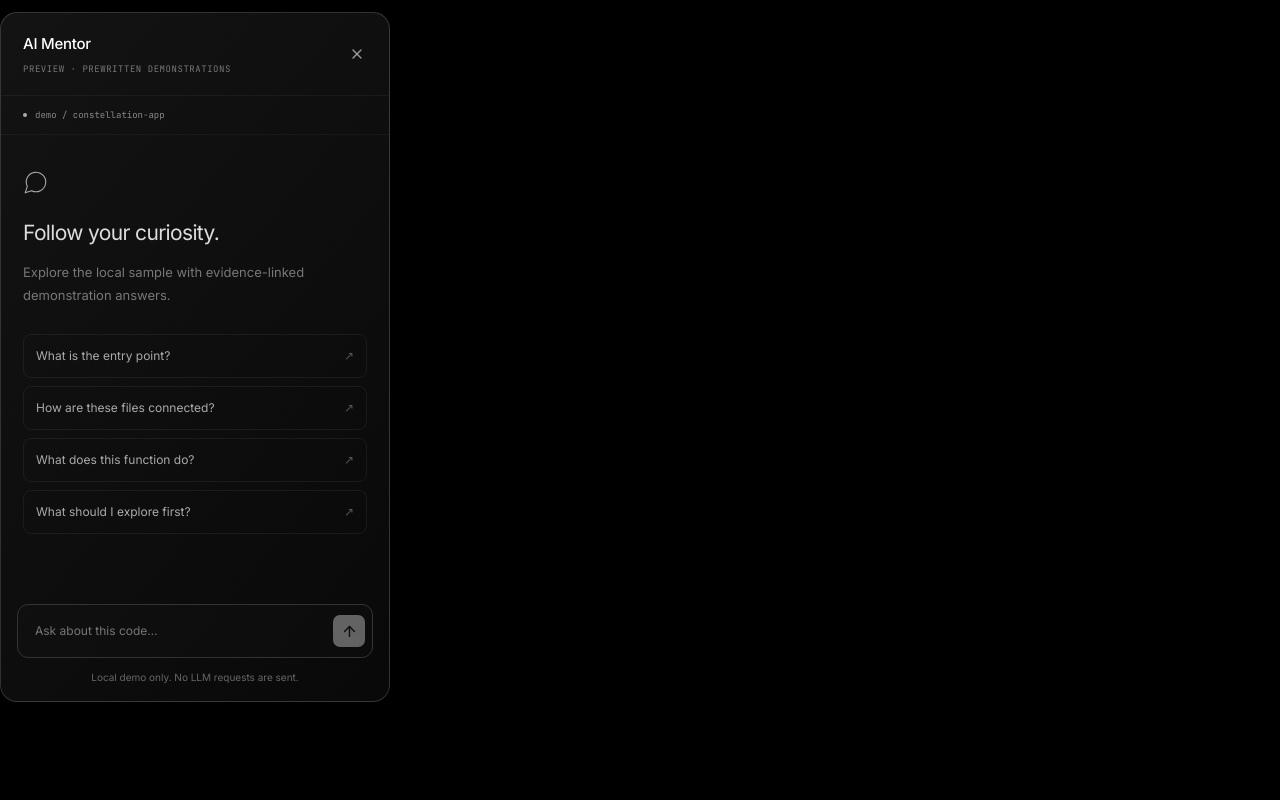
Test: shows a recoverable mentor error
Click the button "What is the entry point? ↗" at (103, 355), box x1=23 y1=334 x2=367 y2=378
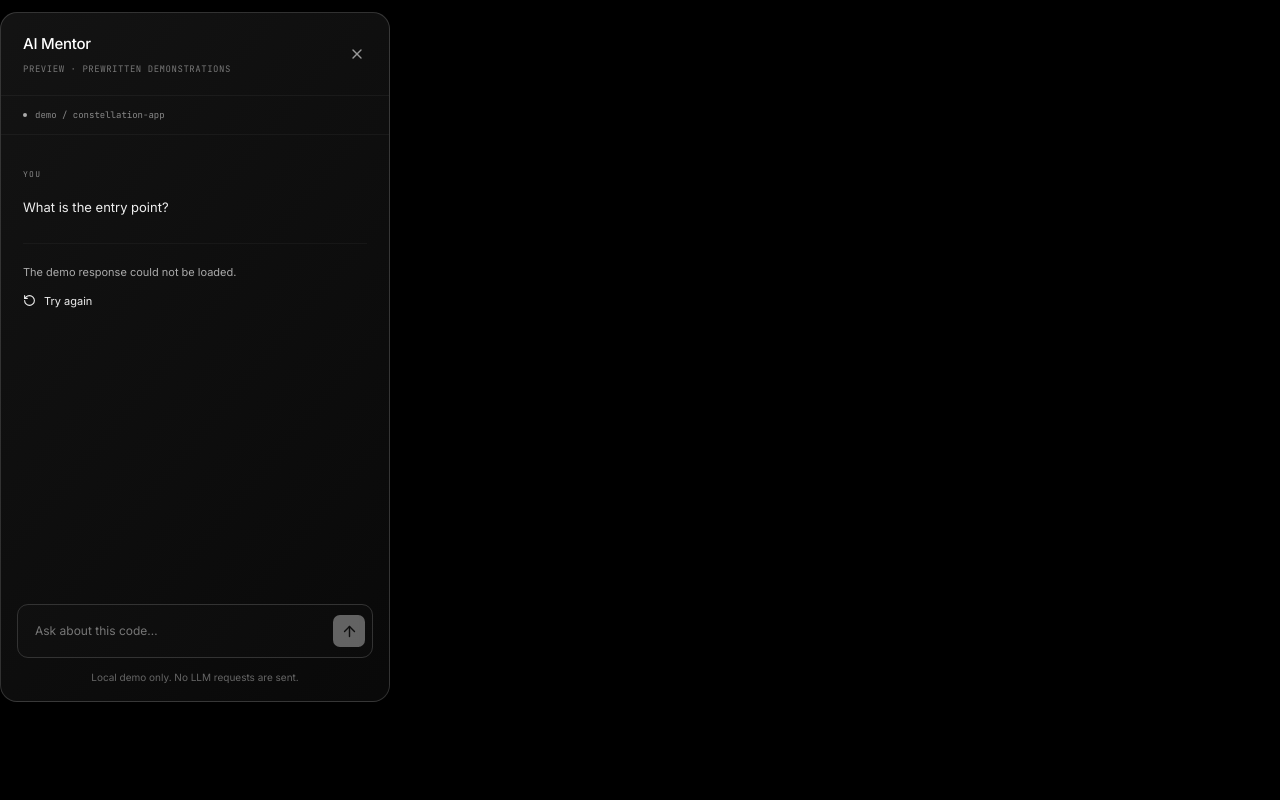
Expected: the message shows "could not be loaded", x1=23 y1=265 x2=236 y2=279
Expected: the button "Try again" is shown, x1=23 y1=293 x2=92 y2=309
